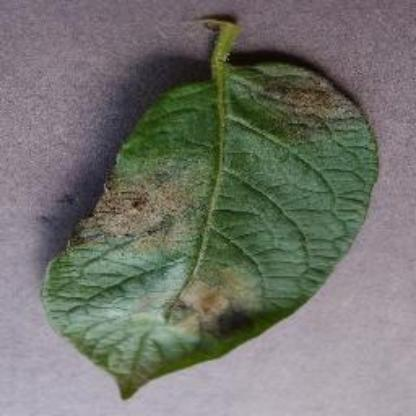Late-Blight: (41, 10, 381, 398)
